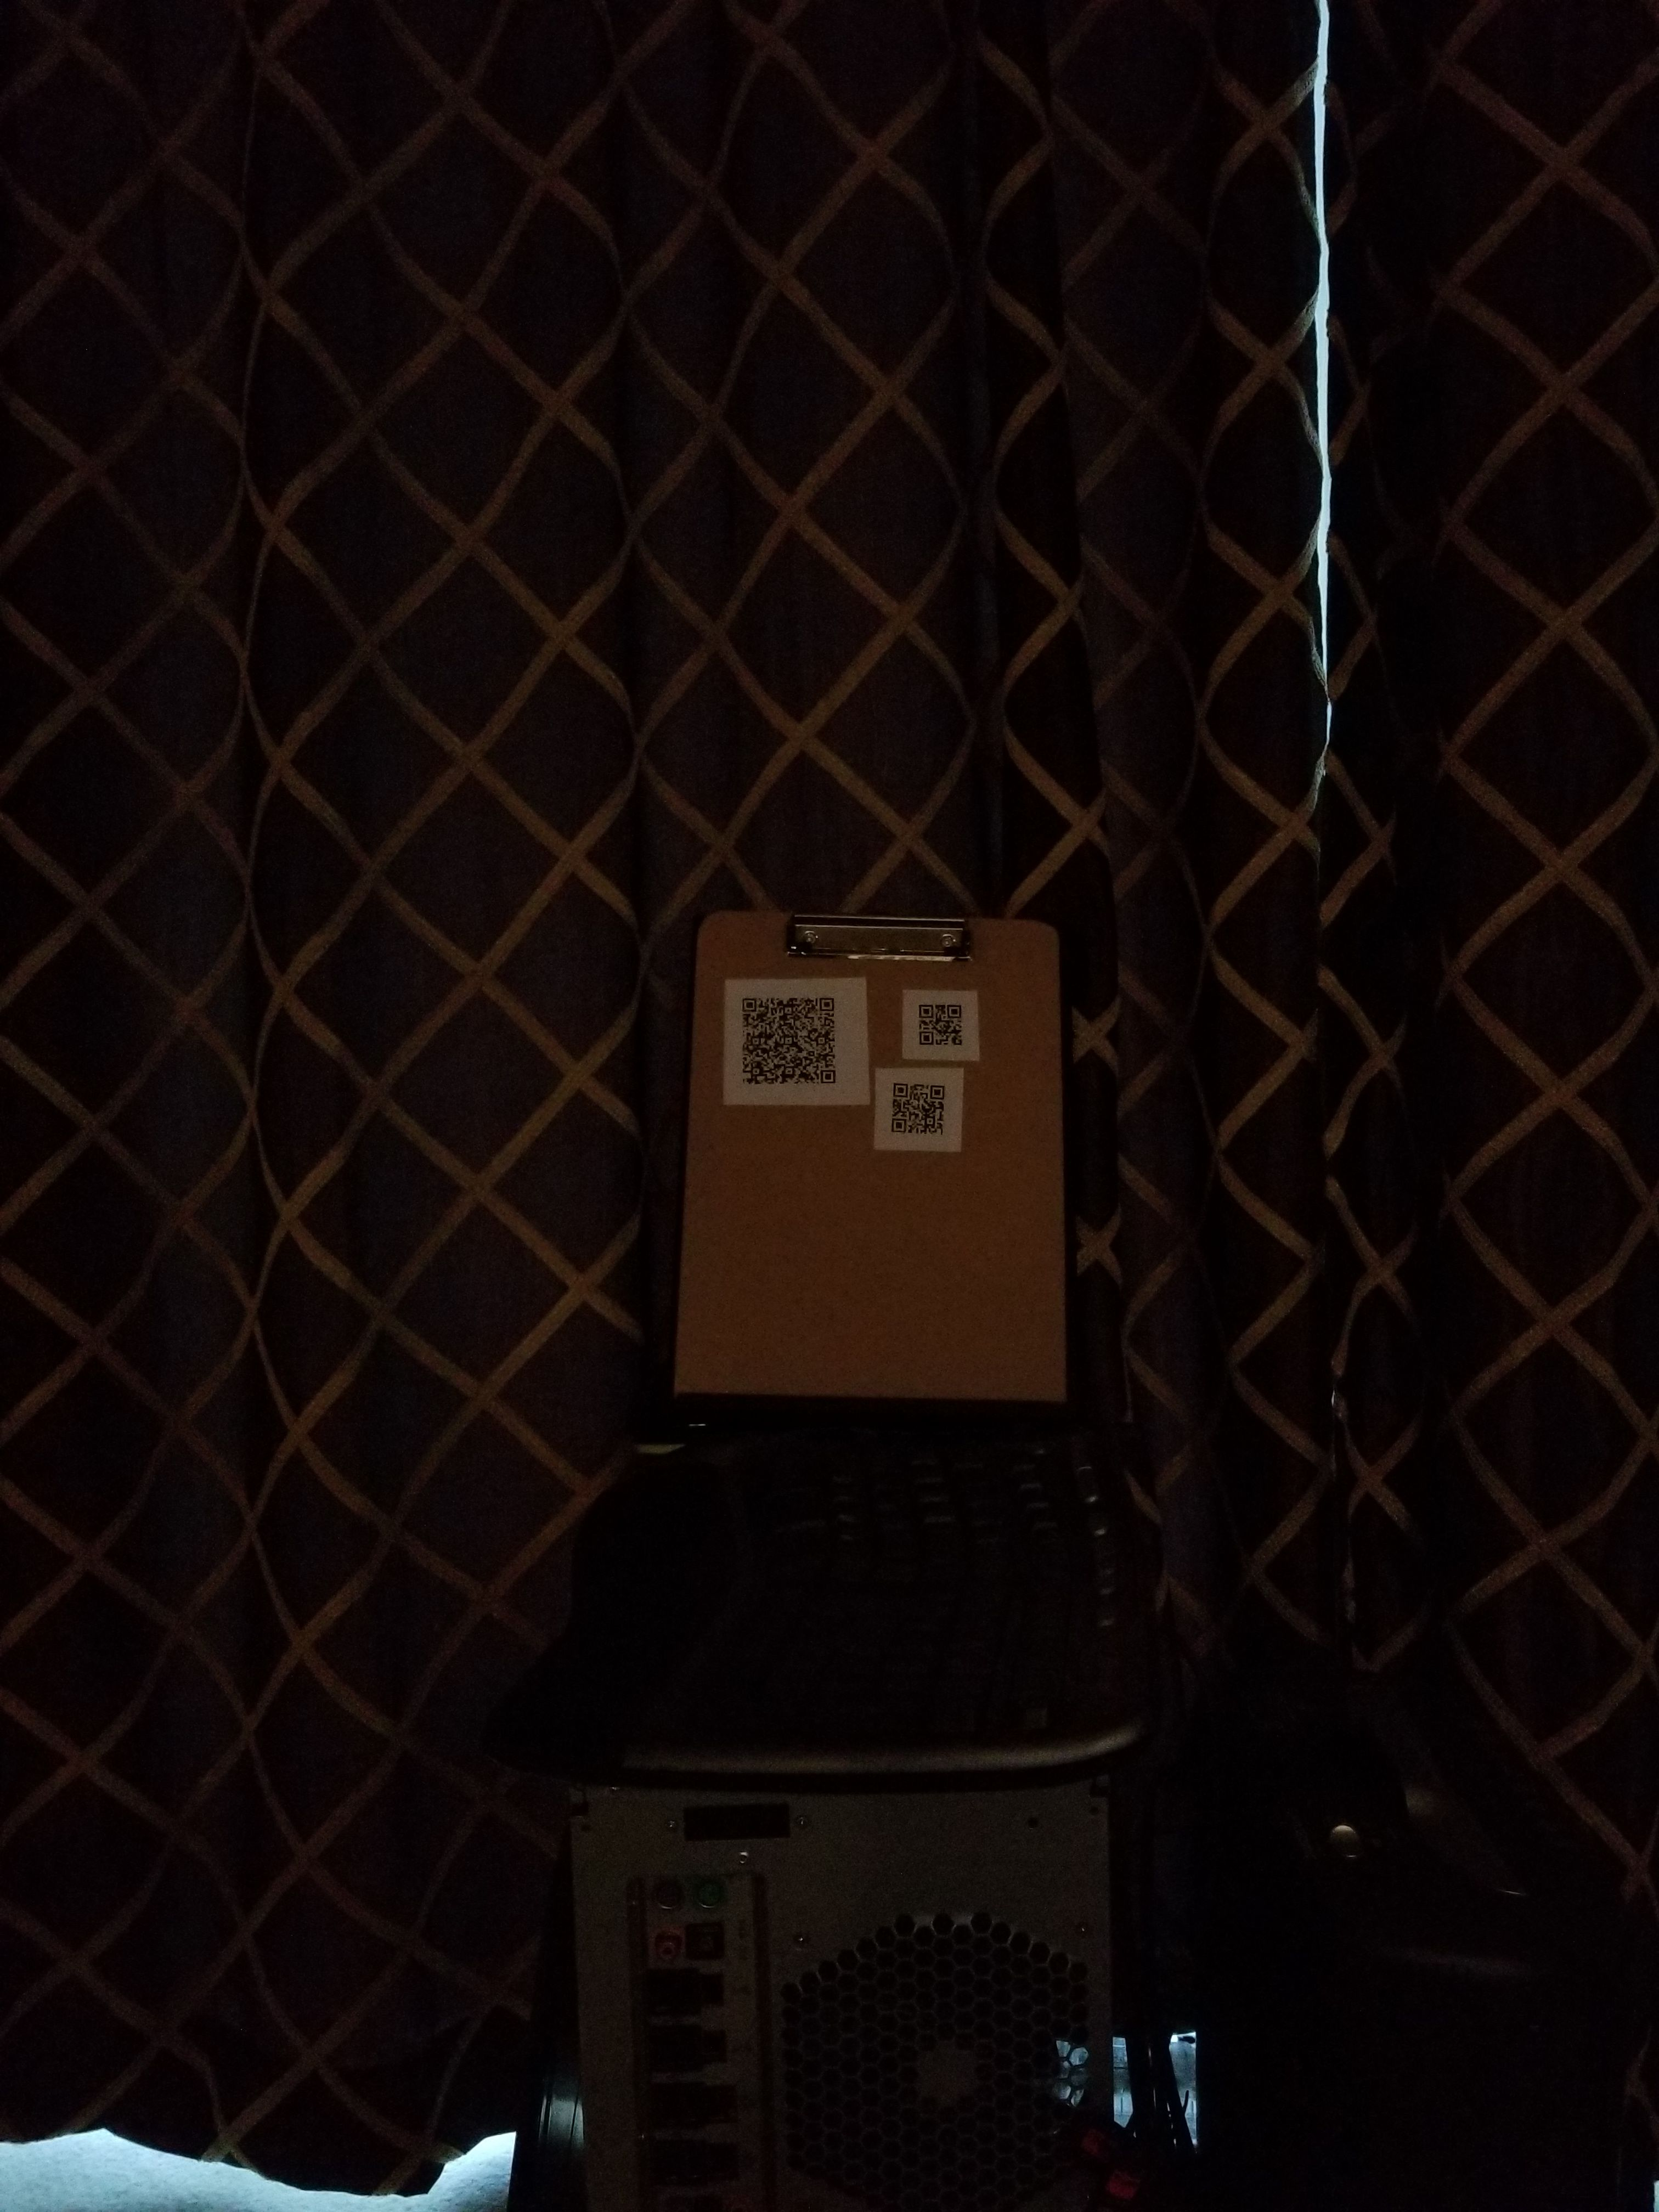QR_CODE: (723, 970, 850, 1108), (880, 1069, 971, 1157), (892, 975, 986, 1055)
